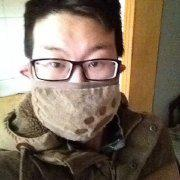OK: (33, 45, 125, 137)
